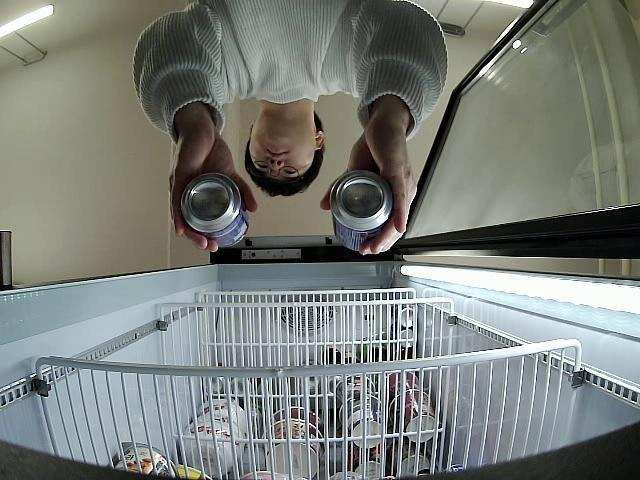14_welchsGrape: (328, 172, 398, 252), (180, 174, 251, 247)
